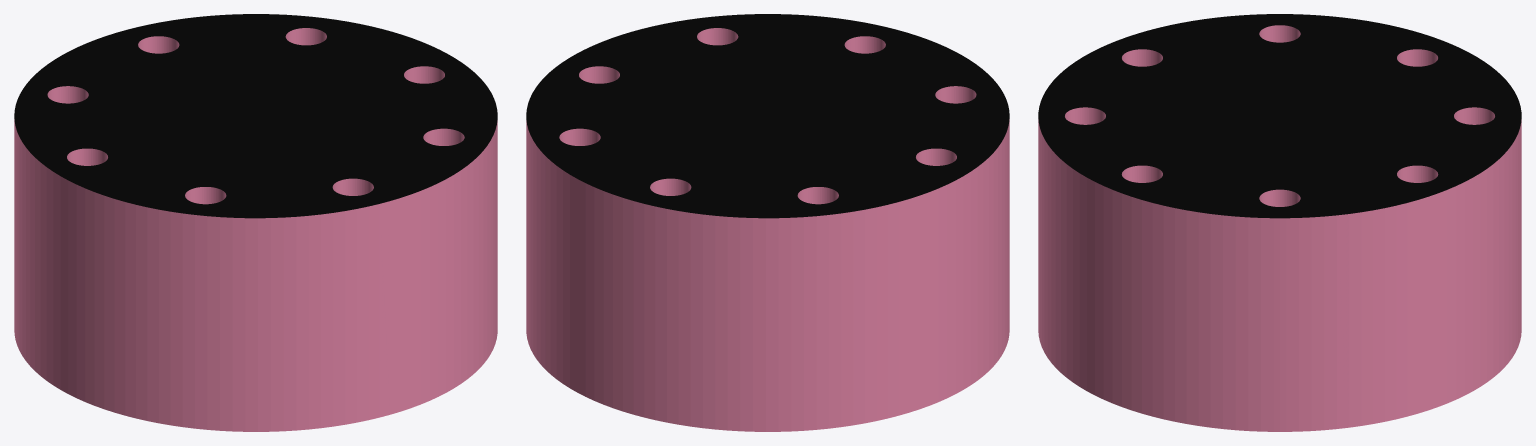
Rendered from Astorino Robot Joint 6.dae.
3 renders of one model, left to right at view 1: azimuth 30°, elevation 25°; view 2: azimuth 150°, elevation 25°; view 3: azimuth 270°, elevation 25°, orthographic.
Visible parts, largest first — view 1: Astorino Robot Joint 6; view 2: Astorino Robot Joint 6; view 3: Astorino Robot Joint 6.
Boxes of the visible parts, x1,y1,x2,y2 form: Astorino Robot Joint 6: (14,14,497,431); Astorino Robot Joint 6: (526,14,1009,431); Astorino Robot Joint 6: (1038,14,1521,431).
Bounding box in the file's own units: 0.041 × 0.041 × 0.02.
